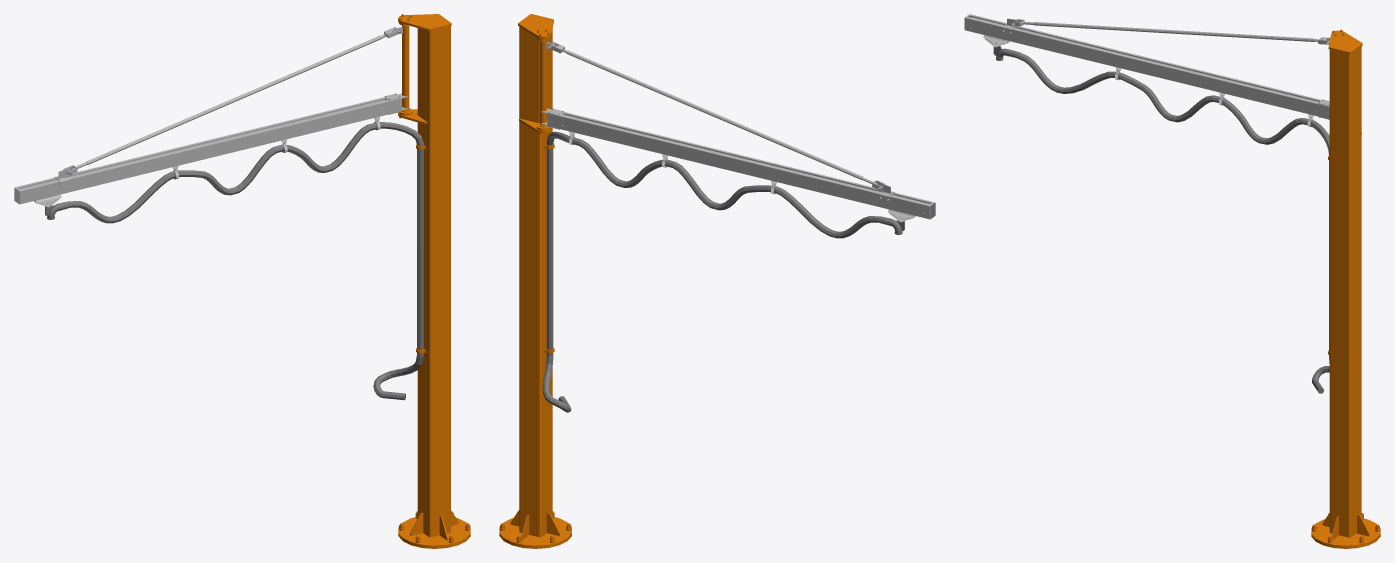
The model's file is aardwolf_all_part_Over Braced Jib Crane - 3m-125kg@p1_-90_-141_0@p2_2956_-141_3105_X.fbx.
3 views of the same model, side by side, from view 1: azimuth 30°, elevation 25°; view 2: azimuth 150°, elevation 25°; view 3: azimuth 330°, elevation 25° (orthographic). The views are drawn at different scales.
Visible parts, largest first — view 1: aardwolf_all_part_obj329, aardwolf_all_part_obj331, Shape154, Shape153, aardwolf_all_part_obj330, aardwolf_all_part_obj332; view 2: aardwolf_all_part_obj329, aardwolf_all_part_obj331, Shape154, Shape153, aardwolf_all_part_obj330, aardwolf_all_part_obj332; view 3: aardwolf_all_part_obj329, aardwolf_all_part_obj331, Shape154, aardwolf_all_part_obj330, Shape153, aardwolf_all_part_obj332.
Part boxes in pixels (bbox=[...]): aardwolf_all_part_obj329: bbox=[398, 14, 451, 537]; aardwolf_all_part_obj331: bbox=[14, 14, 412, 204]; Shape154: bbox=[65, 122, 377, 223]; Shape153: bbox=[373, 122, 423, 400]; aardwolf_all_part_obj330: bbox=[398, 510, 470, 548]; aardwolf_all_part_obj332: bbox=[34, 116, 380, 219]; aardwolf_all_part_obj329: bbox=[518, 14, 553, 537]; aardwolf_all_part_obj331: bbox=[536, 29, 935, 219]; Shape154: bbox=[572, 137, 883, 238]; Shape153: bbox=[542, 131, 571, 412]; aardwolf_all_part_obj330: bbox=[499, 510, 571, 548]; aardwolf_all_part_obj332: bbox=[569, 131, 915, 234]; aardwolf_all_part_obj329: bbox=[1328, 30, 1362, 537]; aardwolf_all_part_obj331: bbox=[964, 14, 1344, 119]; Shape154: bbox=[1012, 51, 1308, 144]; aardwolf_all_part_obj330: bbox=[1311, 513, 1380, 548]; Shape153: bbox=[1310, 120, 1329, 393]; aardwolf_all_part_obj332: bbox=[983, 35, 1313, 127].
Bounding box in the file's own units: 3449 × 3853 × 493.
